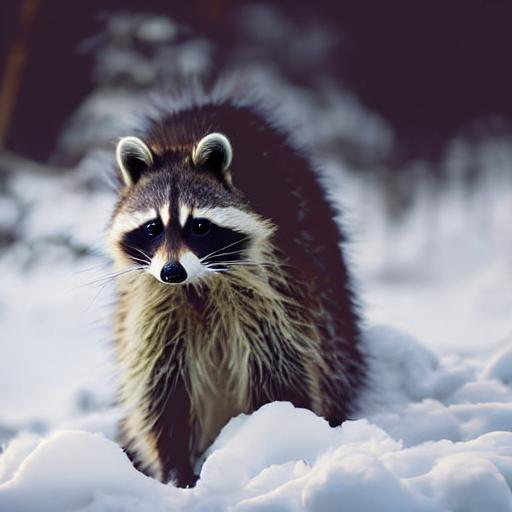raccoon: (95, 83, 376, 426)
